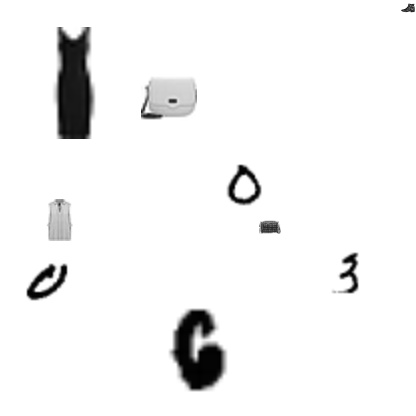0: (17, 254, 73, 310), (215, 157, 271, 213)
3: (322, 243, 378, 299)
6: (138, 294, 250, 406)
Ankle_boot: (401, 1, 415, 15)
Bag: (141, 71, 197, 127), (259, 216, 281, 238)
Dress: (18, 27, 130, 139)
Shirt: (38, 199, 80, 241)
